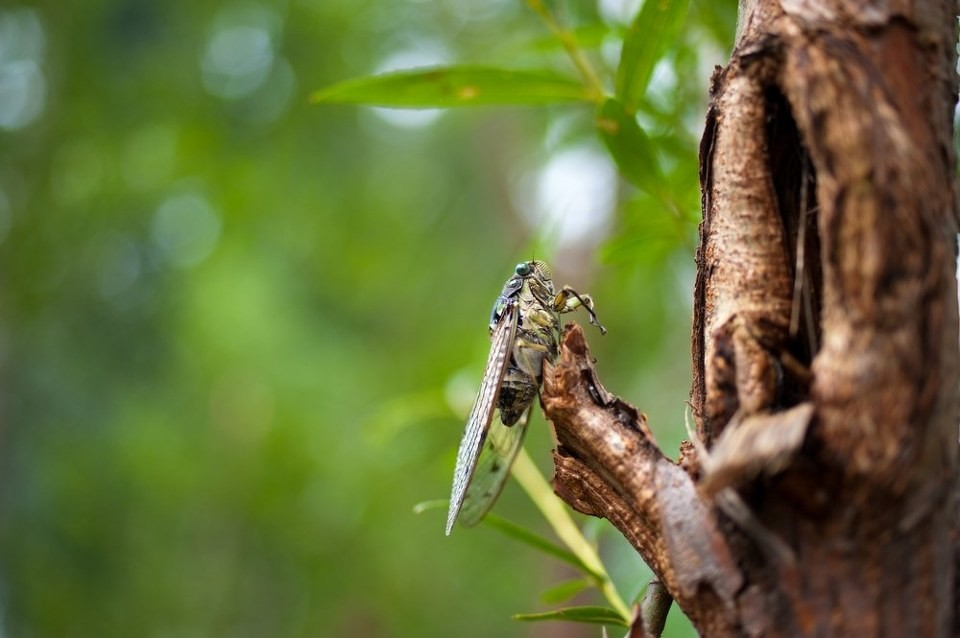chan: (446, 233, 570, 517)
